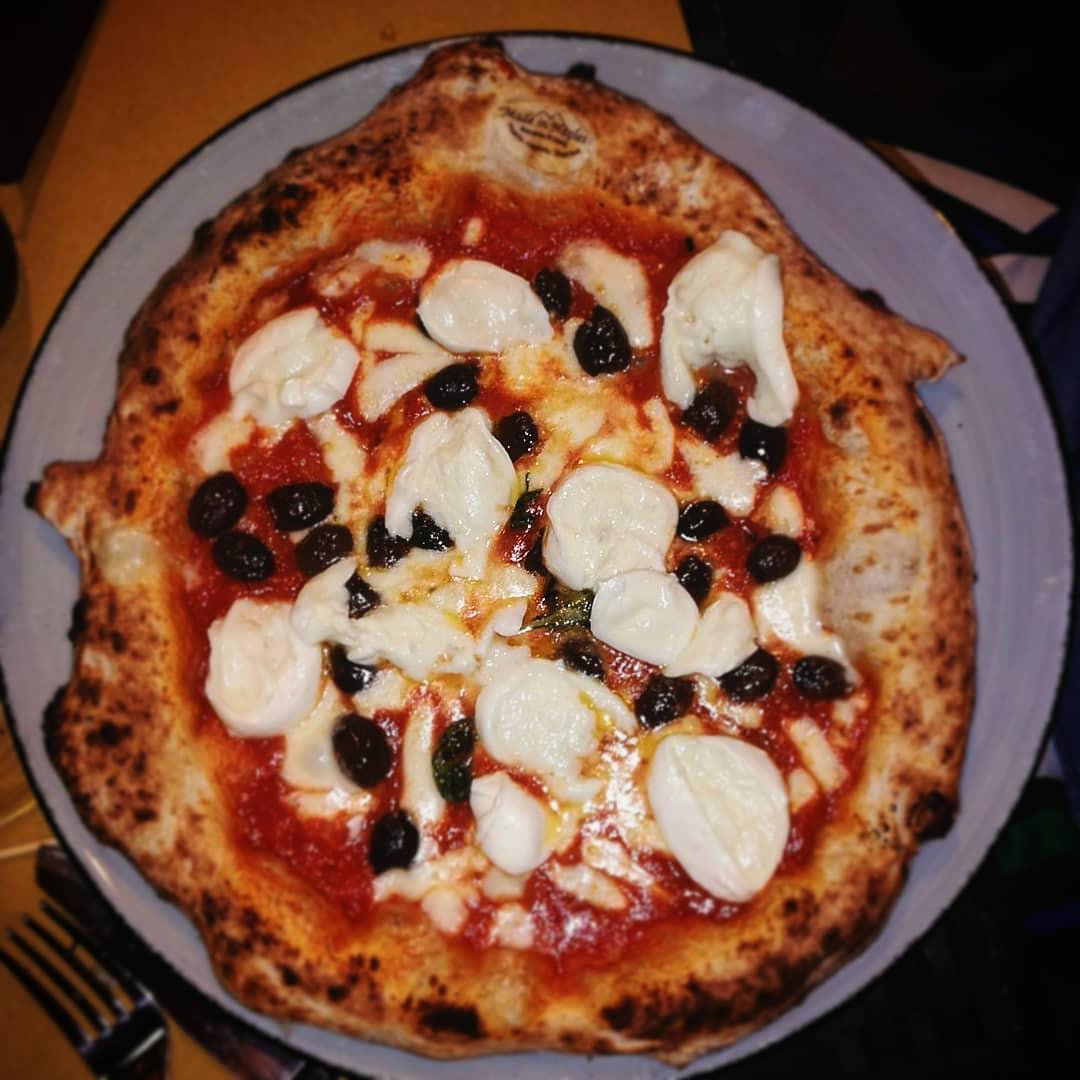Cheese: (555, 472, 681, 649), (662, 749, 784, 895), (491, 667, 602, 781), (404, 417, 497, 552), (668, 248, 778, 356), (219, 612, 308, 730), (422, 262, 536, 352), (236, 317, 346, 409), (307, 602, 459, 654), (485, 792, 546, 862)
Olives: (363, 510, 457, 559), (332, 712, 392, 780), (428, 715, 476, 800), (186, 477, 246, 533), (369, 810, 422, 872), (212, 531, 272, 583), (290, 527, 353, 576), (581, 310, 629, 373), (326, 641, 378, 699), (267, 487, 335, 527), (720, 647, 774, 697), (739, 415, 784, 474), (635, 674, 689, 723), (794, 653, 849, 699), (744, 534, 801, 578), (488, 410, 535, 460), (426, 362, 477, 408), (671, 549, 714, 602), (676, 498, 730, 540), (685, 384, 729, 434), (535, 265, 571, 319), (349, 570, 388, 619)
Pizza: (60, 67, 977, 1027)
